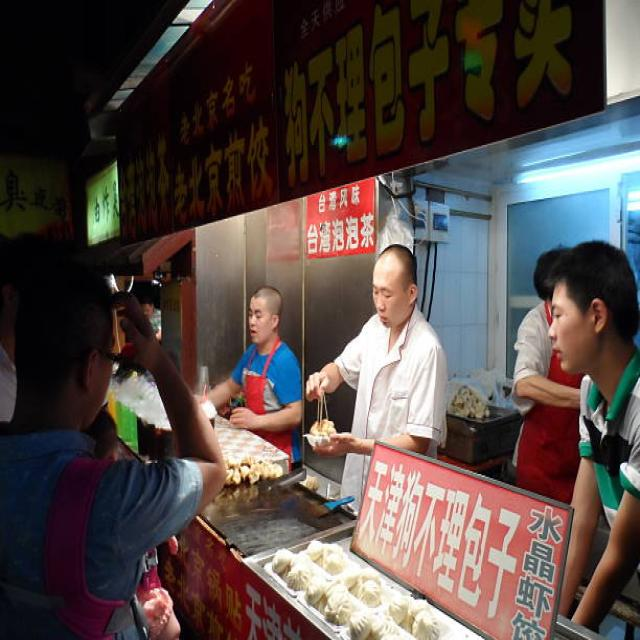Emperan: (86, 3, 640, 640)
